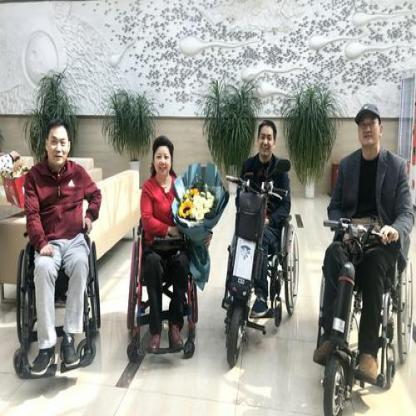wheelchair: (313, 100, 415, 415), (20, 115, 102, 385), (219, 116, 302, 364), (121, 136, 204, 365)
